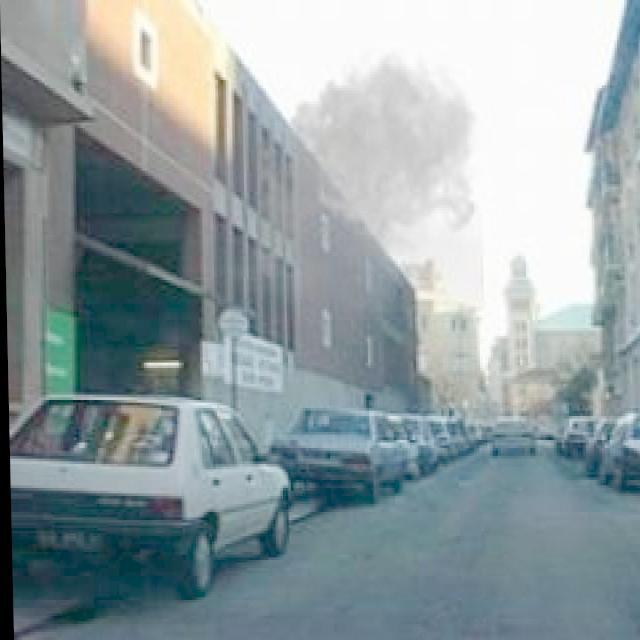Smoke: (270, 52, 484, 365)
